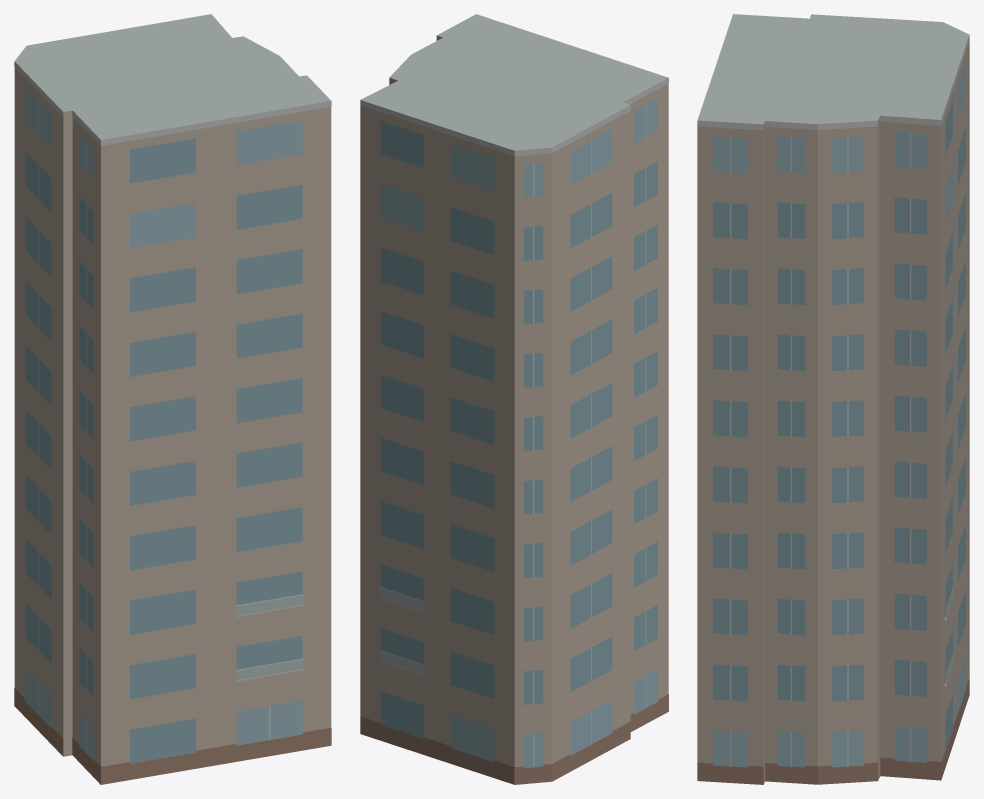
File: survey-upis-32660113.glb
The picture shows the model from 3 angles, left to right: view 1: azimuth 30°, elevation 25°; view 2: azimuth 150°, elevation 25°; view 3: azimuth 270°, elevation 25°; orthographic projection. The views are drawn at different scales.
Visible parts, largest first — view 1: survey-upis-32660113.tmp; view 2: survey-upis-32660113.tmp; view 3: survey-upis-32660113.tmp.
Boxes of the visible parts, box(x1,y1,x2,y2) form: survey-upis-32660113.tmp: box(14, 14, 331, 784); survey-upis-32660113.tmp: box(360, 14, 668, 784); survey-upis-32660113.tmp: box(697, 14, 969, 784).
Size of the model in its own units: 9.76 by 27.2 by 10.17.
